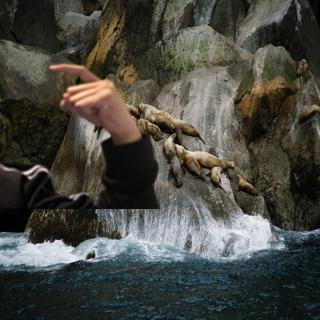WHY: (43, 59, 140, 143)
